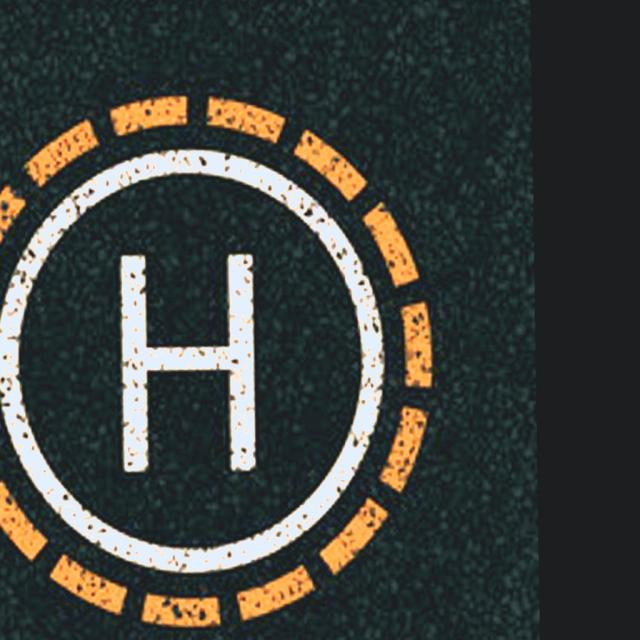helipad: (0, 142, 393, 576)
